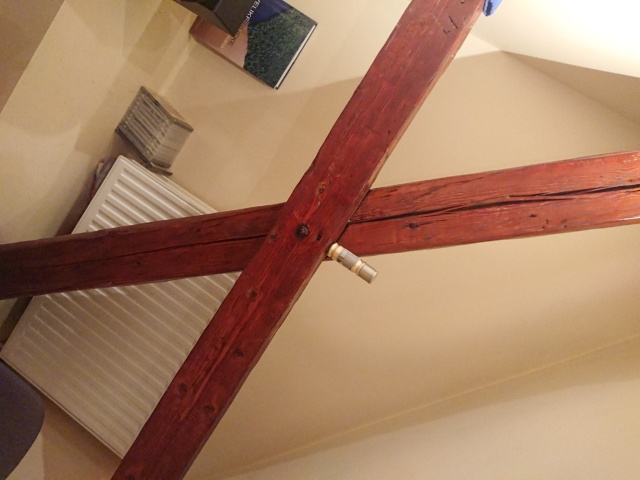Kotanyi Garlic Granules 70g: (324, 239, 380, 287)
